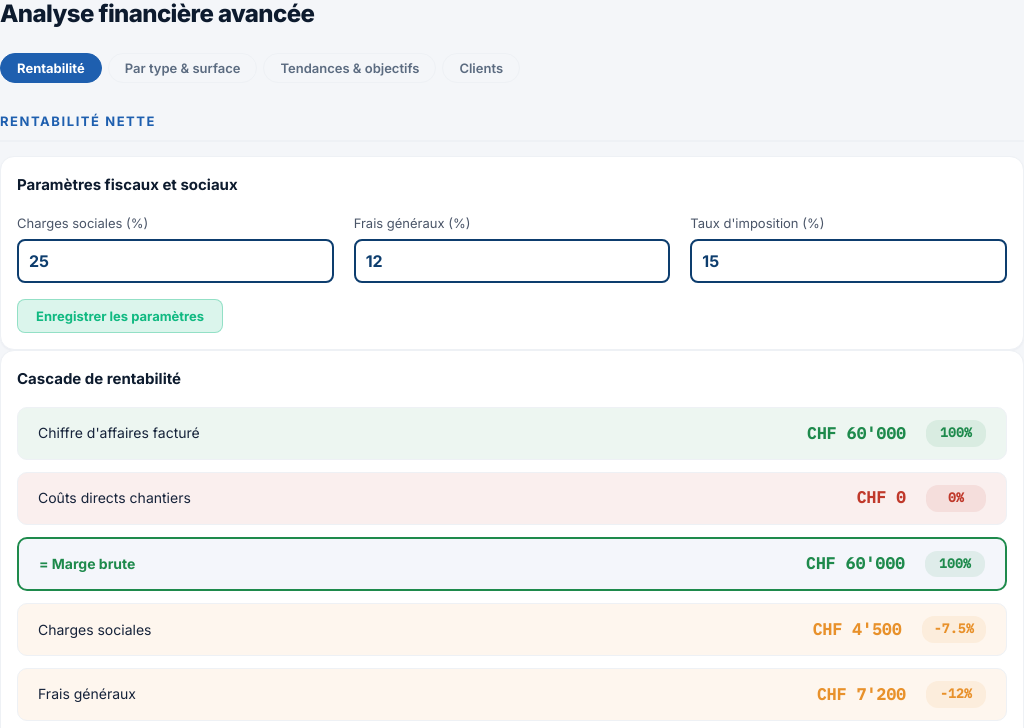
INDÉPENDANCE des vues › la cascade (vue Rentabilité) est masquée ici, restaurée au retour
Click the button "Par type & surface": (183, 68) x1=108 y1=53 x2=257 y2=83
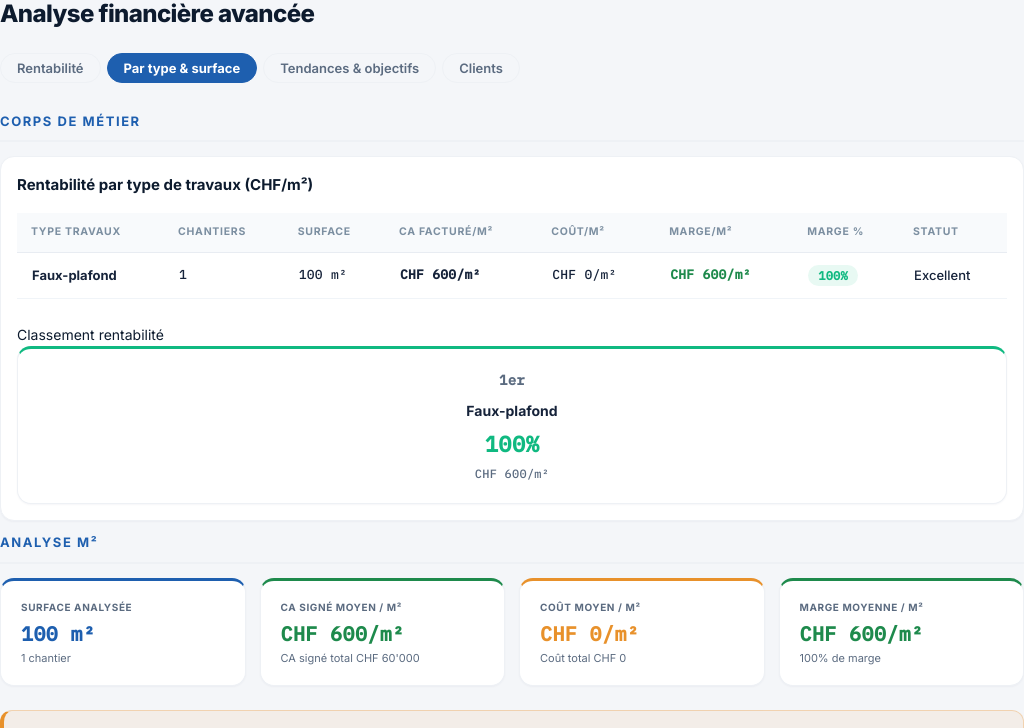
Expected: the text "Cascade de rentabilité" is gone
Click the button "Rentabilité": (50, 68) x1=0 y1=53 x2=100 y2=83
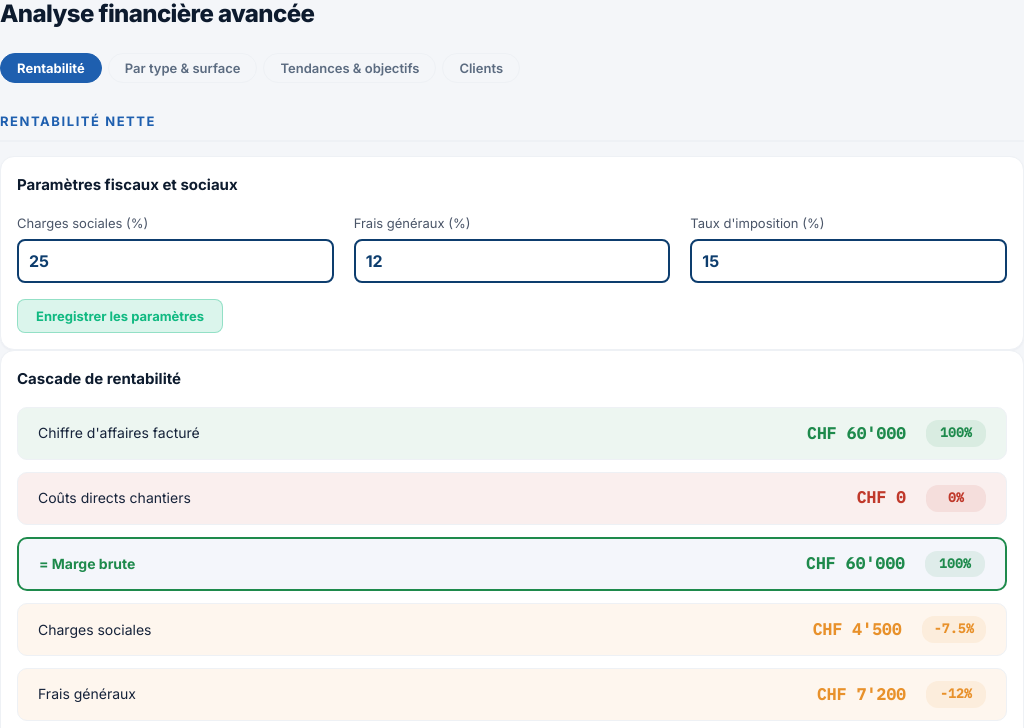
Expected: the text "Cascade de rentabilité" is shown, x1=17 y1=369 x2=181 y2=388
